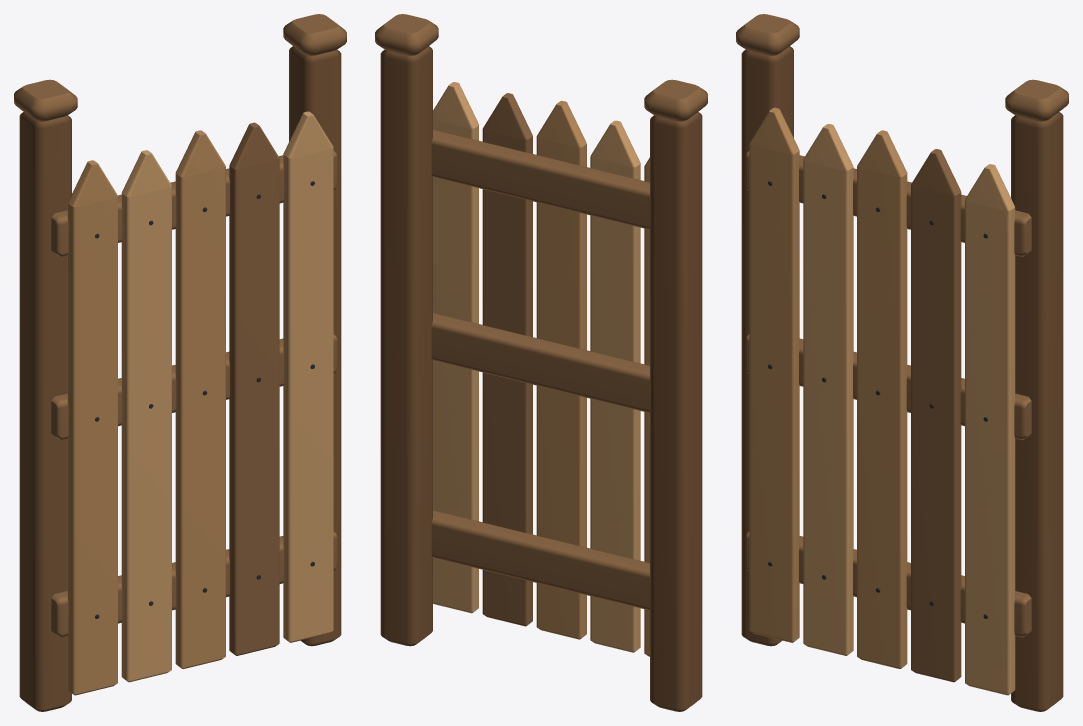
The model's file is cloture_bois.glb.
3 views of the same model, side by side, from view 1: azimuth 30°, elevation 25°; view 2: azimuth 150°, elevation 25°; view 3: azimuth 330°, elevation 25° (orthographic).
Parts seen in each view (by area): view 1: cloture_planche_cl.002, cloture_planche_cl_claire.002, cloture_poteau_bois.002, cloture_planche_cl_sombre.002; view 2: cloture_poteau_bois.002, cloture_planche_cl_sombre.002, cloture_planche_cl_claire.002, cloture_planche_cl.002; view 3: cloture_planche_cl.002, cloture_planche_cl_claire.002, cloture_poteau_bois.002, cloture_planche_cl_sombre.002.
Part boxes in pixels (x1,y1,x2,y2): cloture_planche_cl.002: (67, 130, 225, 695); cloture_planche_cl_claire.002: (121, 111, 333, 682); cloture_poteau_bois.002: (19, 46, 341, 711); cloture_planche_cl_sombre.002: (14, 14, 346, 655); cloture_poteau_bois.002: (380, 46, 702, 711); cloture_planche_cl_sombre.002: (375, 14, 707, 626); cloture_planche_cl_claire.002: (433, 82, 640, 652); cloture_planche_cl.002: (536, 100, 649, 656); cloture_planche_cl.002: (749, 107, 907, 668); cloture_planche_cl_claire.002: (803, 124, 1015, 695); cloture_poteau_bois.002: (741, 46, 1063, 711); cloture_planche_cl_sombre.002: (736, 14, 1068, 682).
Size of the model in its own units: 0.585 by 1.09 by 0.1225.
